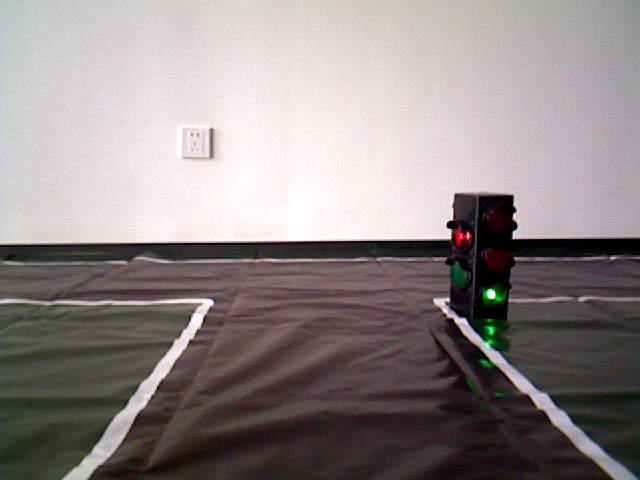green: (451, 196, 509, 313)
